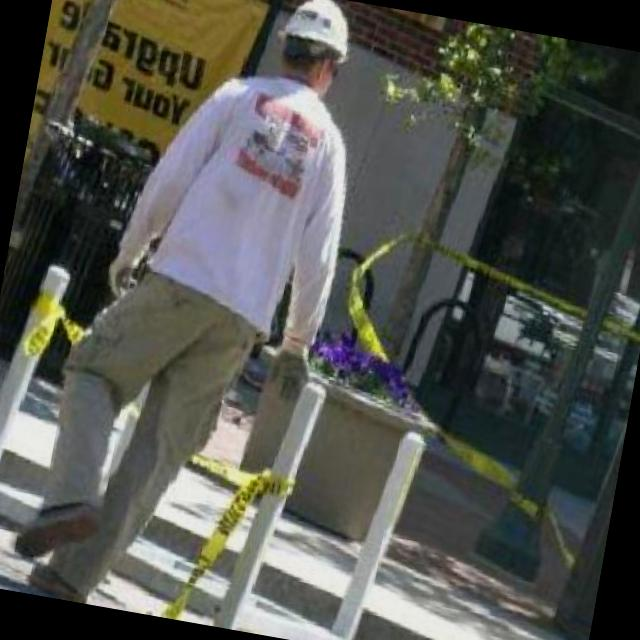Person: (14, 0, 387, 635)
